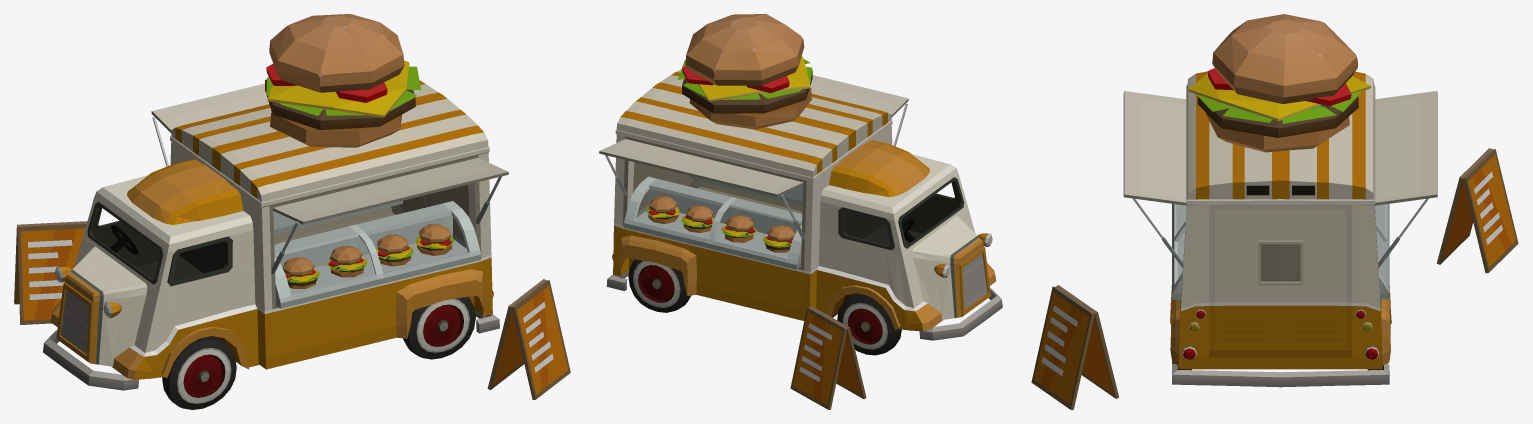
The picture shows the model from 3 angles, left to right: view 1: azimuth 30°, elevation 25°; view 2: azimuth 150°, elevation 25°; view 3: azimuth 270°, elevation 25°; orthographic projection. The views are drawn at different scales.
Parts seen in each view (by area): view 1: O1; view 2: O1; view 3: O1.
Part boxes in pixels (<box>): O1: <box>14,14,570,409</box>; O1: <box>599,14,1002,409</box>; O1: <box>1031,14,1518,409</box>.
Bounding box in the file's own units: 1.1 × 0.8184 × 1.11.
